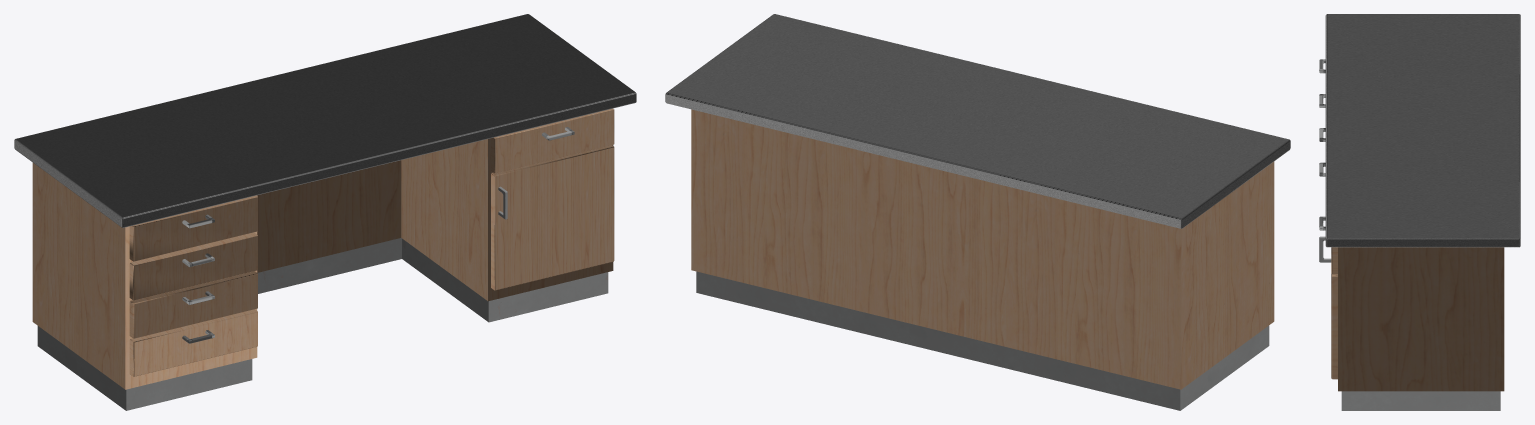
The model's file is Desk.fbx.
3 views of the same model, side by side, from view 1: azimuth 30°, elevation 25°; view 2: azimuth 150°, elevation 25°; view 3: azimuth 270°, elevation 25° (orthographic). The views are drawn at different scales.
Parts seen in each view (by area): view 1: Desk_LOD0; view 2: Desk_LOD0; view 3: Desk_LOD0.
Part boxes in pixels (x1,y1,x2,y2): Desk_LOD0: (14,14,636,410); Desk_LOD0: (665,14,1290,410); Desk_LOD0: (1319,14,1520,410).
Size of what is drawn, in the model's own units: 3.28 by 1.23 by 1.24.
Materials: 3 (3 with a texture image).
